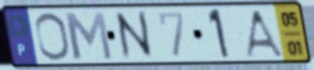1: (206, 7, 232, 62)
7: (154, 10, 187, 60)
A: (242, 8, 286, 59)
M: (61, 10, 115, 62)
N: (112, 8, 157, 63)
O: (33, 11, 73, 62)
